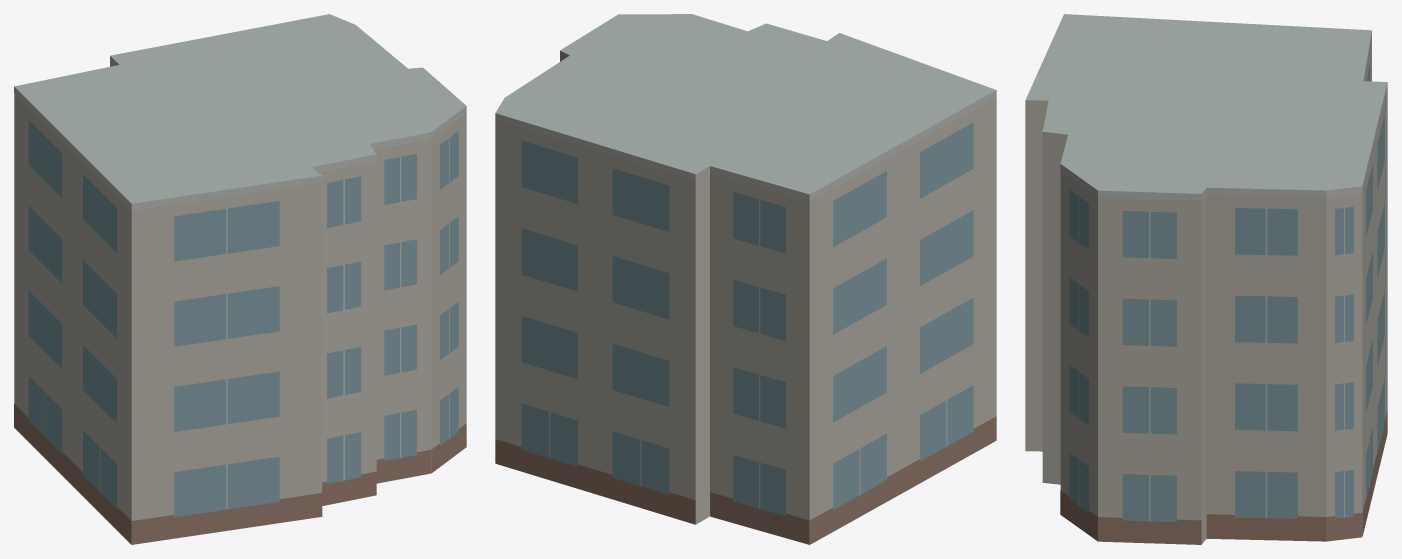
File: survey-upis-32802500.glb
The picture shows the model from 3 angles, left to right: view 1: azimuth 30°, elevation 25°; view 2: azimuth 150°, elevation 25°; view 3: azimuth 270°, elevation 25°; orthographic projection. The views are drawn at different scales.
Visible parts, largest first — view 1: survey-upis-32802500.tmp; view 2: survey-upis-32802500.tmp; view 3: survey-upis-32802500.tmp.
Boxes of the visible parts, box(x1,y1,x2,y2) form: survey-upis-32802500.tmp: box(14, 14, 466, 544); survey-upis-32802500.tmp: box(495, 14, 996, 544); survey-upis-32802500.tmp: box(1025, 14, 1387, 544).
Size of the model in its own units: 13.42 by 12.2 by 11.42.
